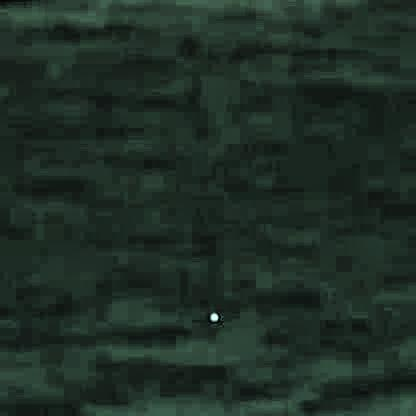golfball: (204, 309, 217, 320)
